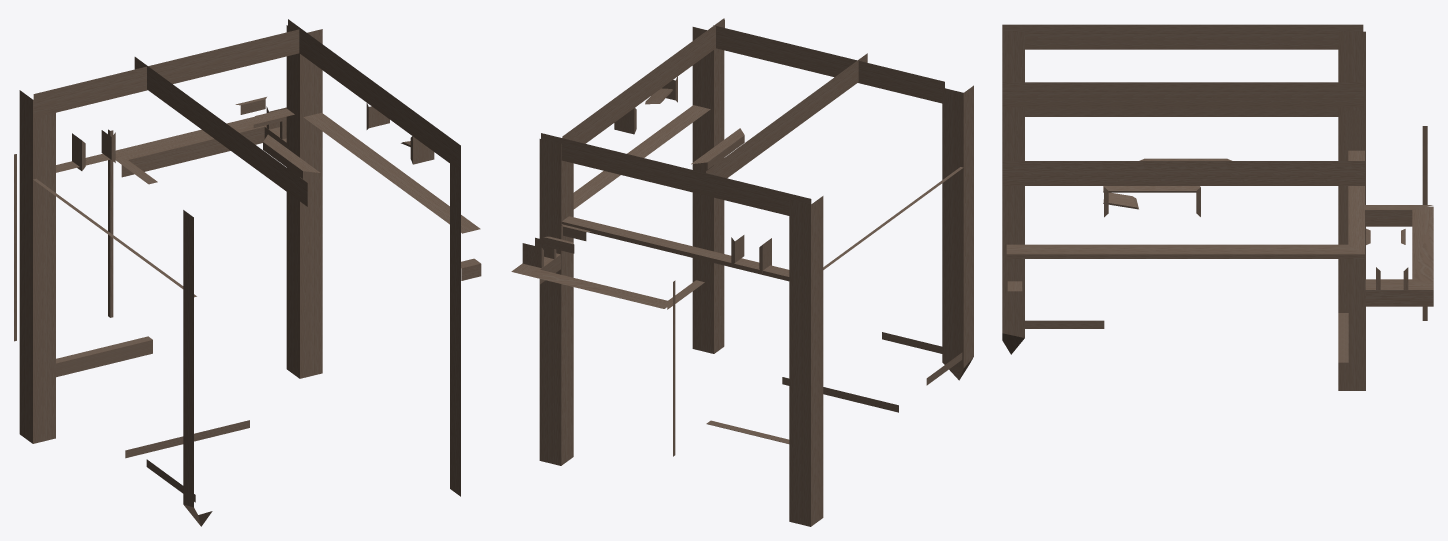
Rendered from kd_stage_135b75_4_33_bounded.glb.
3 renders of one model, left to right at view 1: azimuth 30°, elevation 25°; view 2: azimuth 150°, elevation 25°; view 3: azimuth 270°, elevation 25°, orthographic. The views are drawn at different scales.
Visible parts, largest first — view 1: kd_stage_135b75_4_33_bounded; view 2: kd_stage_135b75_4_33_bounded; view 3: kd_stage_135b75_4_33_bounded.
Boxes of the visible parts, x1,y1,x2,y2 form: kd_stage_135b75_4_33_bounded: (14, 19, 481, 526); kd_stage_135b75_4_33_bounded: (511, 18, 973, 526); kd_stage_135b75_4_33_bounded: (1002, 24, 1433, 390).
Bounding box in the file's own units: 3.79 × 4.39 × 4.68.
Materials: 1 (1 with a texture image).
